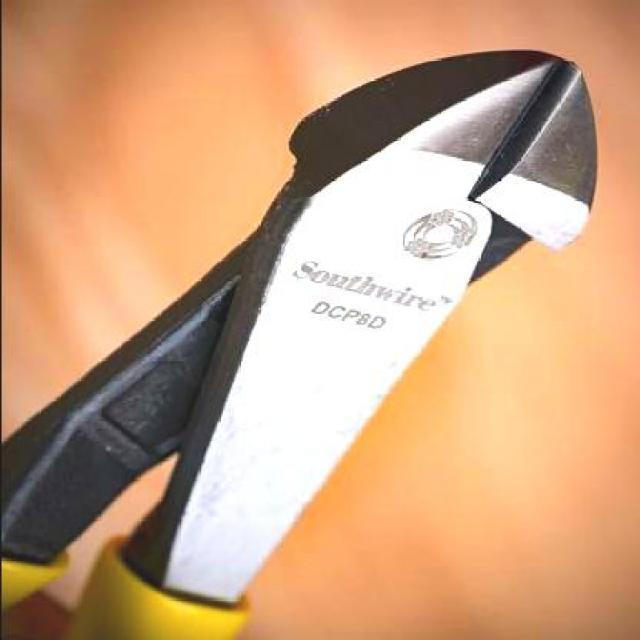pliers: (14, 54, 598, 638)
